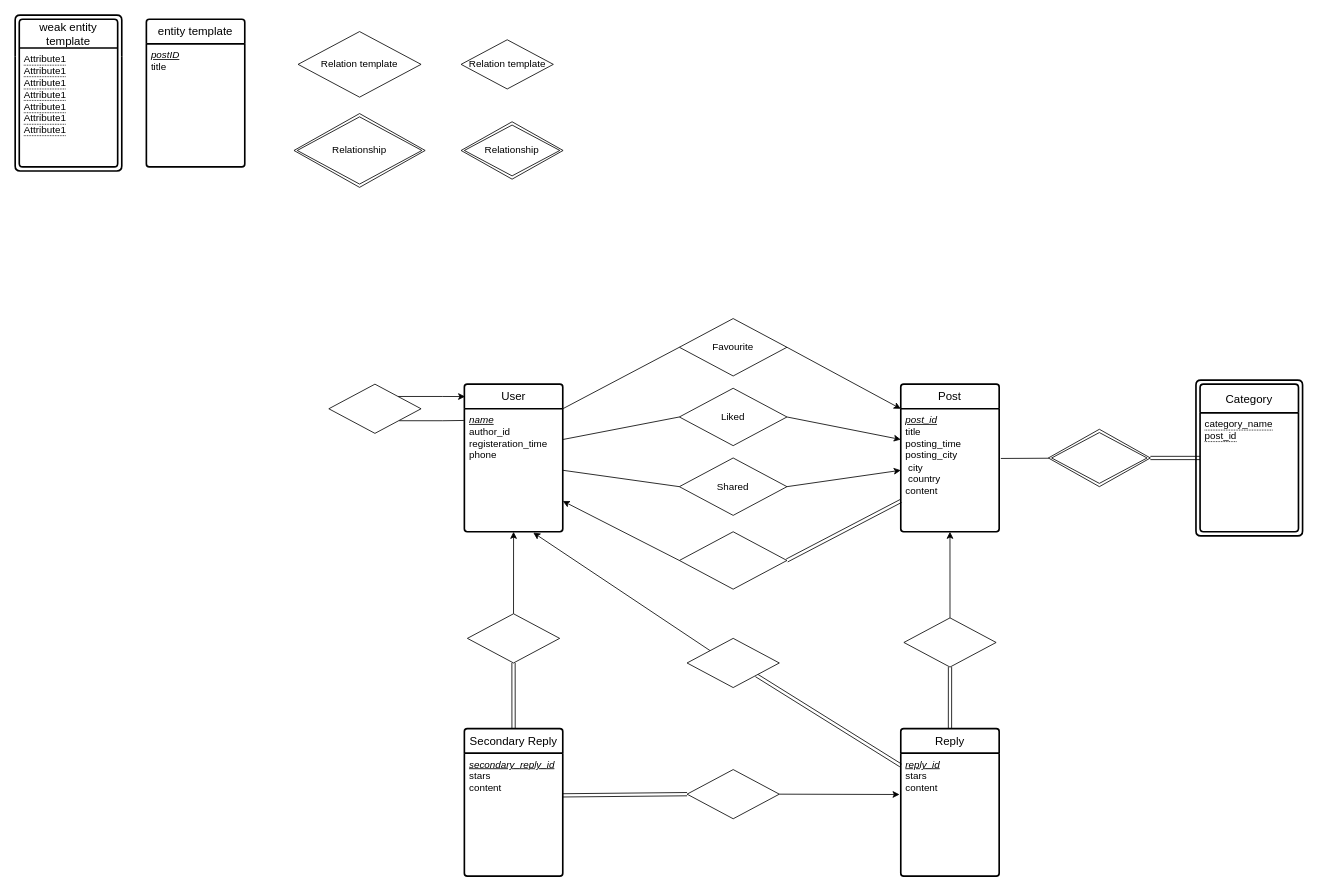
This 1317x891 diagram has some shape labels left out. The shapes that lost their labels are listed below. From the top down, each one's centre as x and y in pixels, then its label:
At point 374,408: "FollowedBy".
At point 1099,457: "categories".
At point 733,560: "Post Author".
At point 513,638: "Second Reply Autthor".
At point 949,642: "Replies".
At point 732,663: "Author".
At point 732,794: "Secondary Replies".
